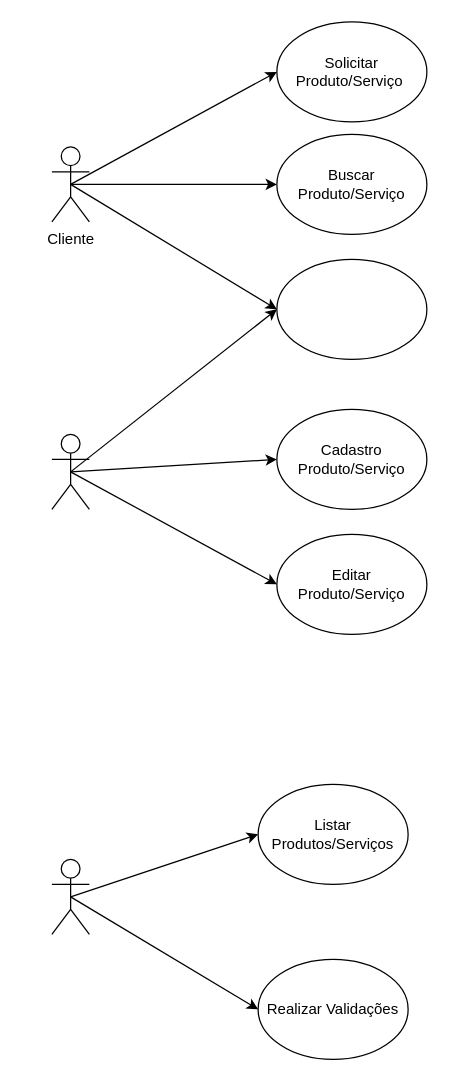
The diagram is 449 pixels wide and 1081 high, and some of its shapes have lost their labels. Each missing label, with the centre of its shape:
Cadastrar Usuario: the point at 351,308
Empreendedor: the point at 70,471
Sistema: the point at 70,896
